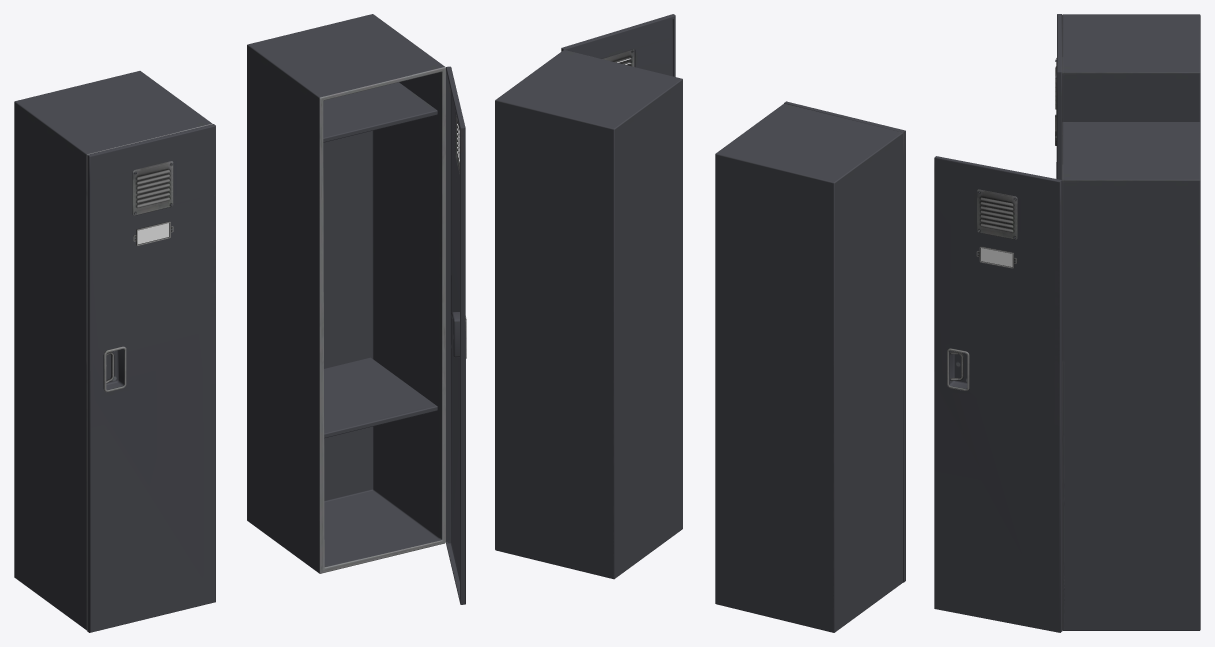
The model's file is locker.glb.
3 views of the same model, side by side, from view 1: azimuth 30°, elevation 25°; view 2: azimuth 150°, elevation 25°; view 3: azimuth 270°, elevation 25° (orthographic). The views are drawn at different scales.
Visible parts, largest first — view 1: 01__0, 02_2__0, 02__0, 01_2__0; view 2: 02__0, 01__0, 01_2__0, 02_2__0; view 3: 01__0, 01_2__0, 02__0, 02_2__0.
Boxes of the visible parts, box(x1,y1,x2,y2) form: 01__0: box(247, 14, 445, 573); 02_2__0: box(87, 124, 215, 632); 02__0: box(14, 71, 212, 630); 01_2__0: box(446, 66, 466, 604); 02__0: box(715, 103, 902, 632); 01__0: box(495, 50, 682, 579); 01_2__0: box(561, 14, 675, 76); 02_2__0: box(784, 101, 905, 582); 01__0: box(1062, 122, 1200, 630); 01_2__0: box(934, 156, 1062, 632); 02__0: box(1062, 14, 1200, 122); 02_2__0: box(1055, 14, 1062, 179).
Size of the model in its own units: 1.44 by 1.8 by 0.9616.
Materials: 1 (1 with a texture image).
